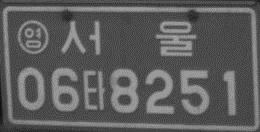0: (16, 66, 45, 111)
1: (215, 69, 244, 116)
2: (144, 67, 175, 114)
5: (179, 68, 210, 115)
6: (50, 66, 80, 112)
8: (108, 67, 140, 114)
서울_D: (59, 20, 197, 58)
영: (15, 19, 48, 54)
타: (82, 69, 106, 111)
